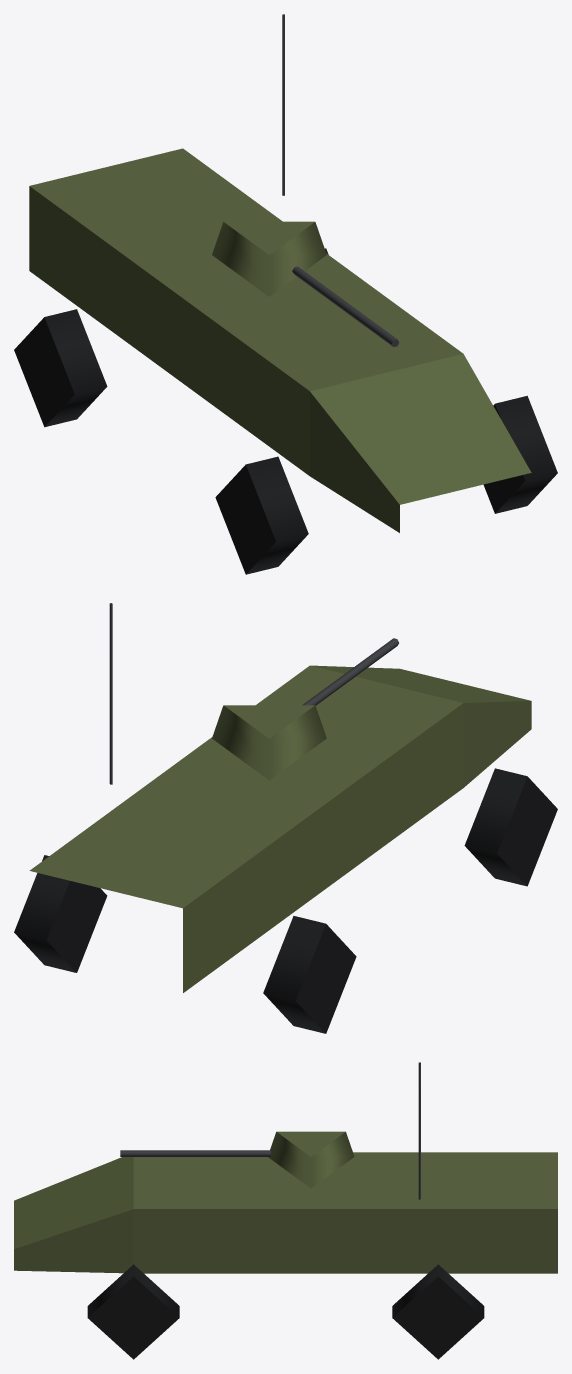
Rendered from veh_ground_scout_car_a08_lod2.glb.
The picture shows the model from 3 angles, top to bottom: view 1: azimuth 30°, elevation 25°; view 2: azimuth 150°, elevation 25°; view 3: azimuth 270°, elevation 25°; orthographic projection. The views are drawn at different scales.
Parts seen in each view (by area): view 1: body, turret, wheel_0, wheel_2, wheel_3; view 2: body, wheel_2, wheel_0, turret, wheel_1; view 3: body, wheel_1, wheel_3, turret.
Part boxes in pixels (x1,y1,x2,y2): body: (29, 14, 531, 532); turret: (212, 221, 399, 346); wheel_0: (14, 309, 107, 427); wheel_2: (215, 456, 308, 574); wheel_3: (483, 395, 557, 513); body: (29, 603, 531, 992); wheel_2: (464, 768, 557, 886); wheel_0: (263, 916, 356, 1033); turret: (212, 638, 398, 780); wheel_1: (14, 855, 107, 972); body: (14, 1062, 557, 1273); wheel_1: (392, 1264, 484, 1359); wheel_3: (87, 1264, 179, 1359); turret: (120, 1131, 354, 1188).
Bounding box in the file's own units: 2.94 × 3.65 × 6.5.
